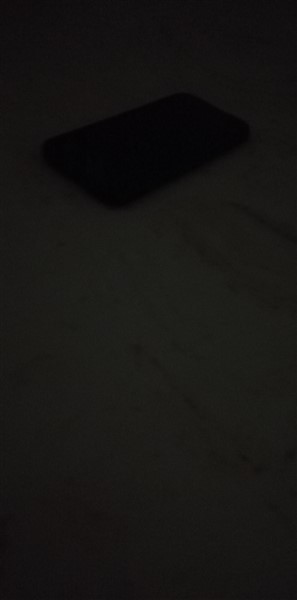telefon: (29, 88, 267, 215)
